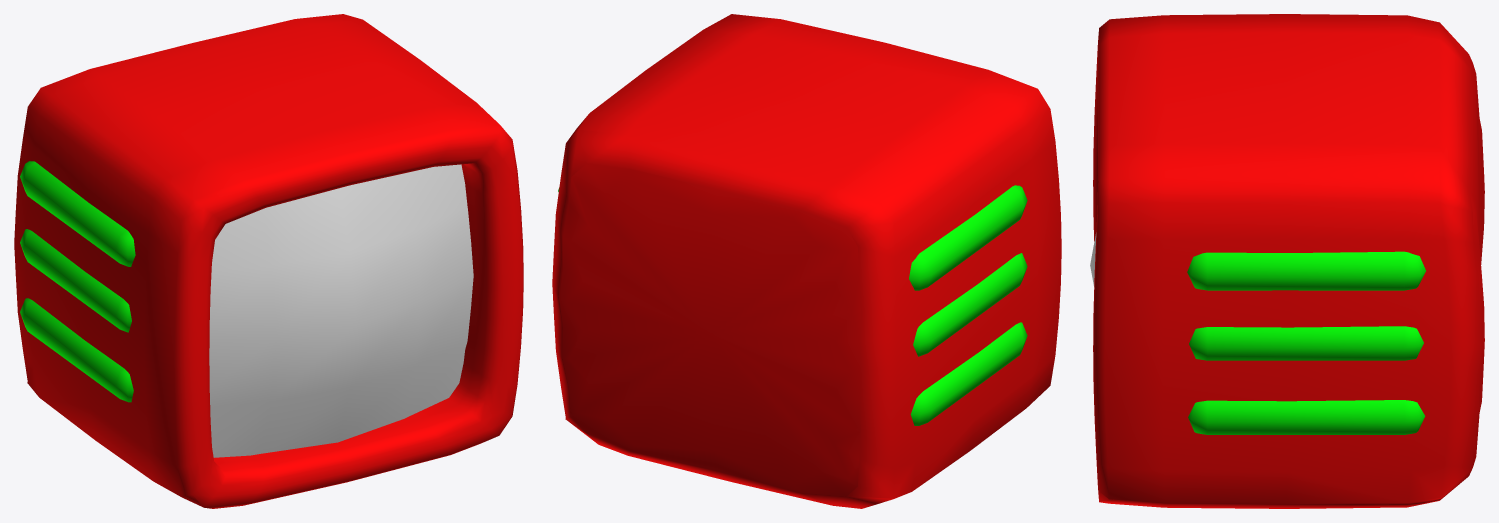
File: Robot01_Head.fbx
3 views of the same model, side by side, from view 1: azimuth 30°, elevation 25°; view 2: azimuth 150°, elevation 25°; view 3: azimuth 270°, elevation 25° (orthographic). The views are drawn at different scales.
Parts seen in each view (by area): view 1: Robot01_Head; view 2: Robot01_Head; view 3: Robot01_Head.
Part boxes in pixels (x1=…): Robot01_Head: x1=14, y1=14, x2=523, y2=508; Robot01_Head: x1=552, y1=14, x2=1061, y2=508; Robot01_Head: x1=1090, y1=14, x2=1484, y2=508.
Bounding box in the file's own units: 42.88 × 37.1 × 37.06.
